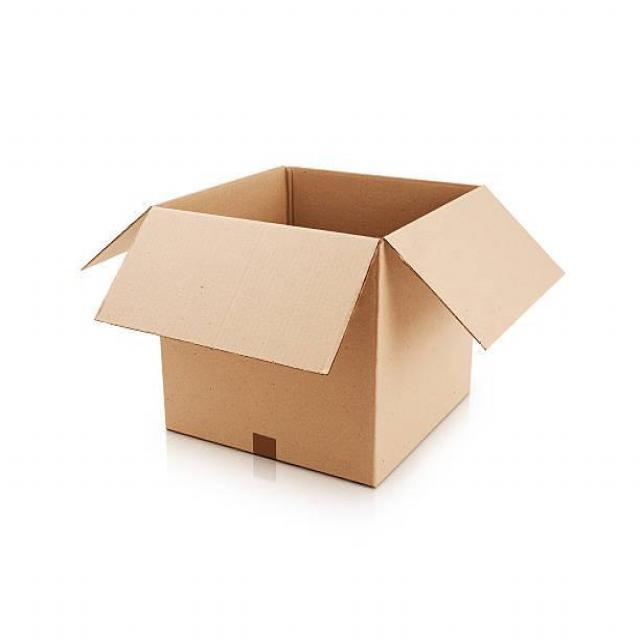box: (83, 164, 564, 494)
